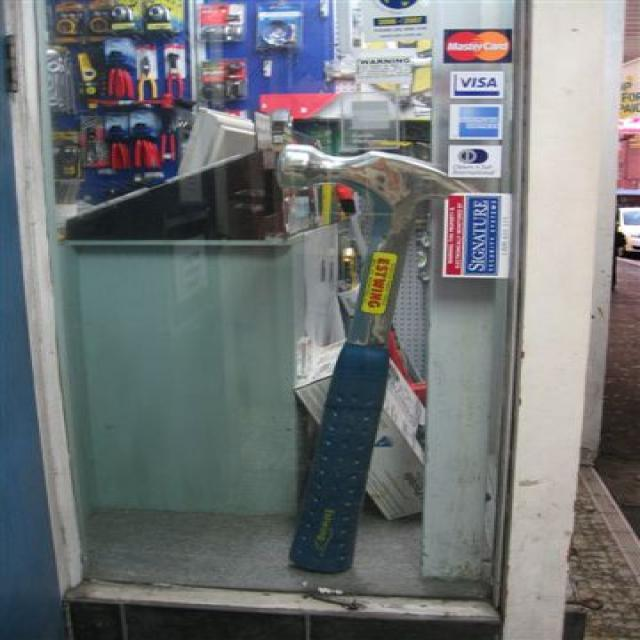hammer: (272, 137, 480, 578)
